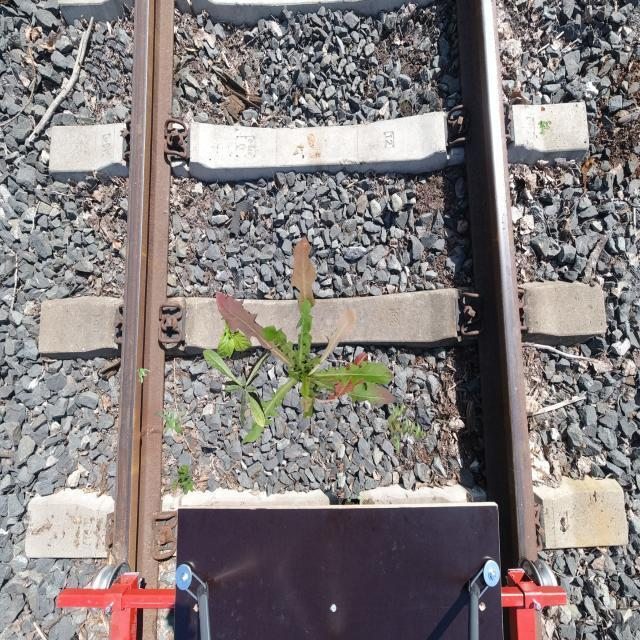Plant: (216, 236, 396, 444), (203, 348, 274, 429), (386, 401, 428, 455), (217, 298, 252, 360), (154, 402, 186, 436), (172, 464, 196, 494), (136, 368, 150, 384), (538, 120, 552, 136)
